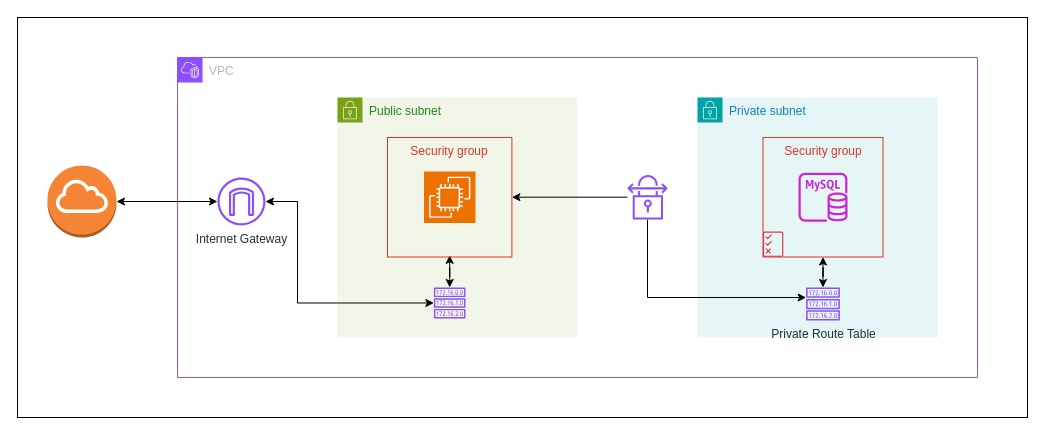
Image size: 1045x435. Some labels were removed from this diagram. Here are the shapes that lost their labels. From the top down, the centre of each, then its label:
the point at 81,201: Internet
the point at 449,196: EC2 Instance
the point at 822,196: RDS Database
the point at 449,302: Public Route Table
